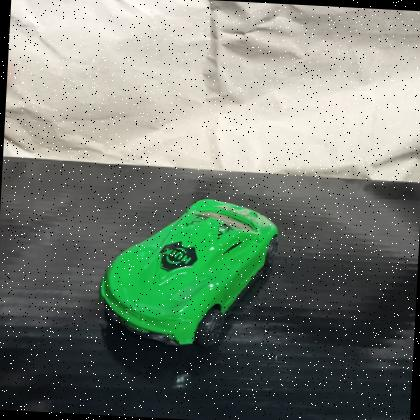Car: (98, 199, 278, 351)
